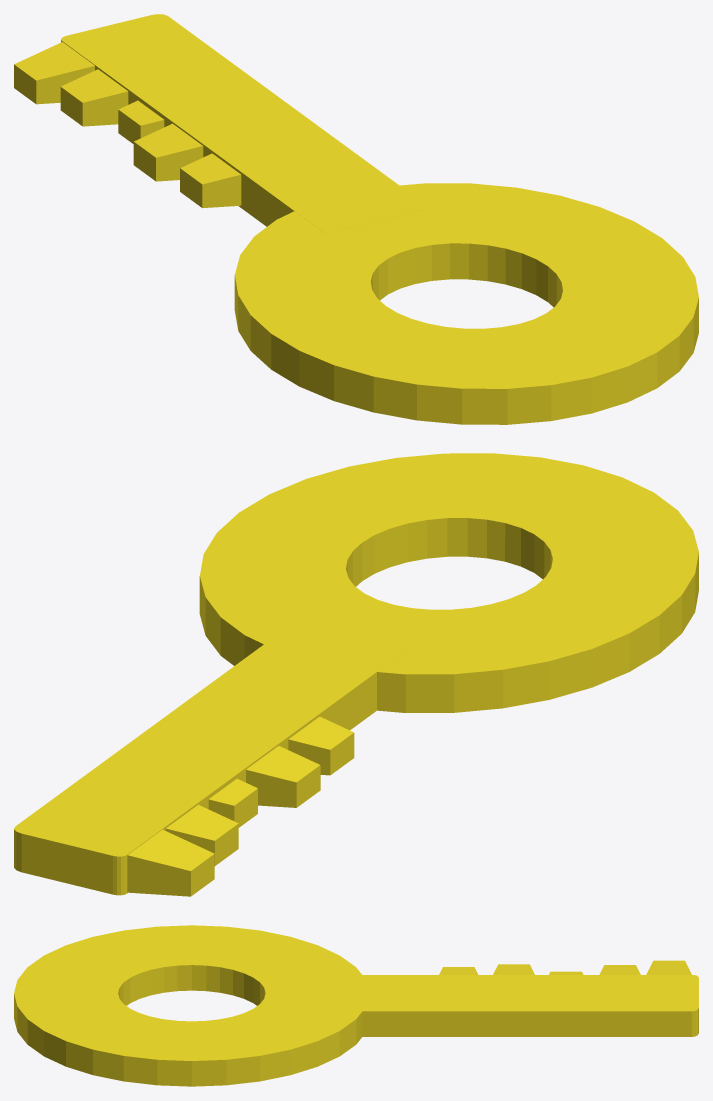
Rendered from llave.fbx.
3 renders of one model, top to bottom at view 1: azimuth 30°, elevation 25°; view 2: azimuth 150°, elevation 25°; view 3: azimuth 270°, elevation 25°, orthographic. The views are drawn at different scales.
Parts seen in each view (by area): view 1: Cube.001; view 2: Cube.001; view 3: Cube.001.
Part boxes in pixels (x1,y1,x2,y2): Cube.001: (14, 14, 698, 424); Cube.001: (14, 453, 698, 896); Cube.001: (14, 925, 698, 1086).
Bounding box in the file's own units: 188 × 16.53 × 400.
Materials: 1 (1 with a texture image).
